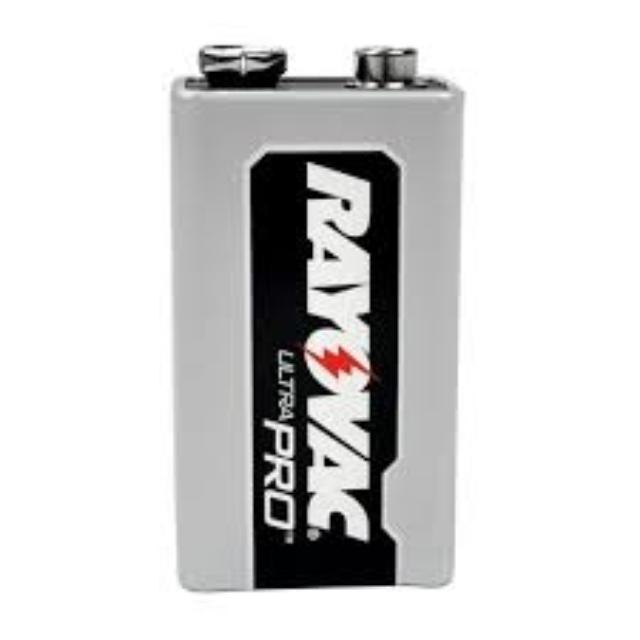Battery: (168, 43, 466, 600)
